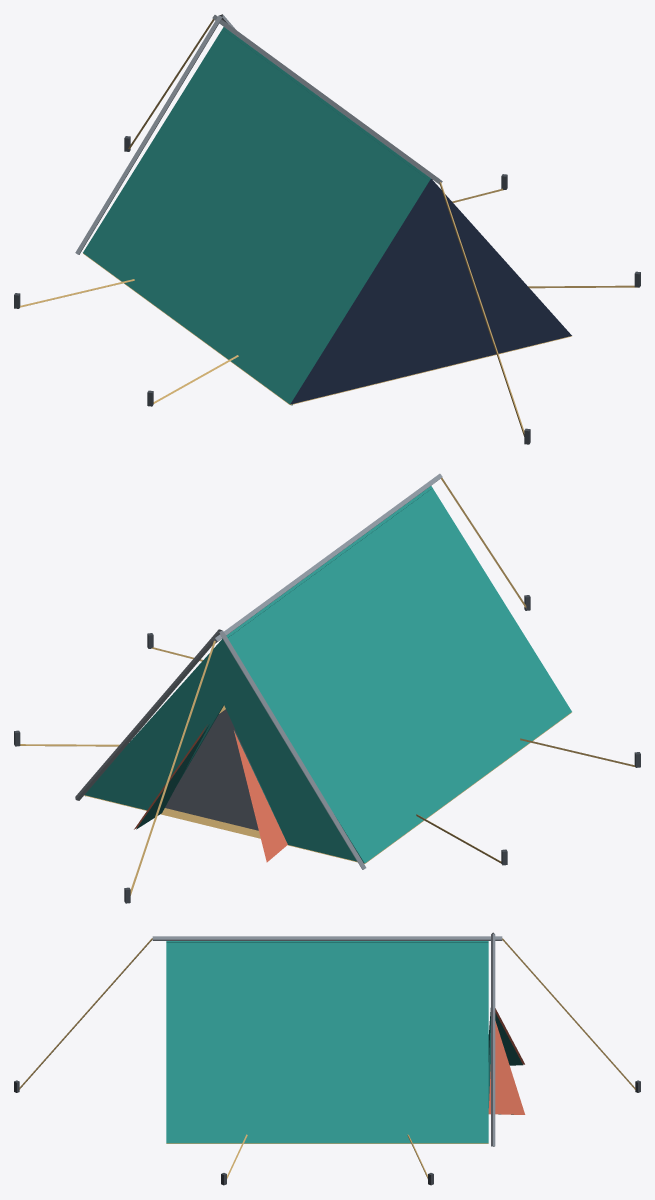
Rendered from tent.glb.
The picture shows the model from 3 angles, top to bottom: view 1: azimuth 30°, elevation 25°; view 2: azimuth 150°, elevation 25°; view 3: azimuth 270°, elevation 25°; orthographic projection. The views are drawn at different scales.
Visible parts, largest first — view 1: Body; view 2: Body; view 3: Body.
Part boxes in pixels (box(x1,y1,x2,y2)): Body: box(14, 14, 640, 444); Body: box(14, 473, 640, 903); Body: box(14, 932, 640, 1185).
Bounding box in the file's own units: 3.85 × 1.53 × 5.45.
